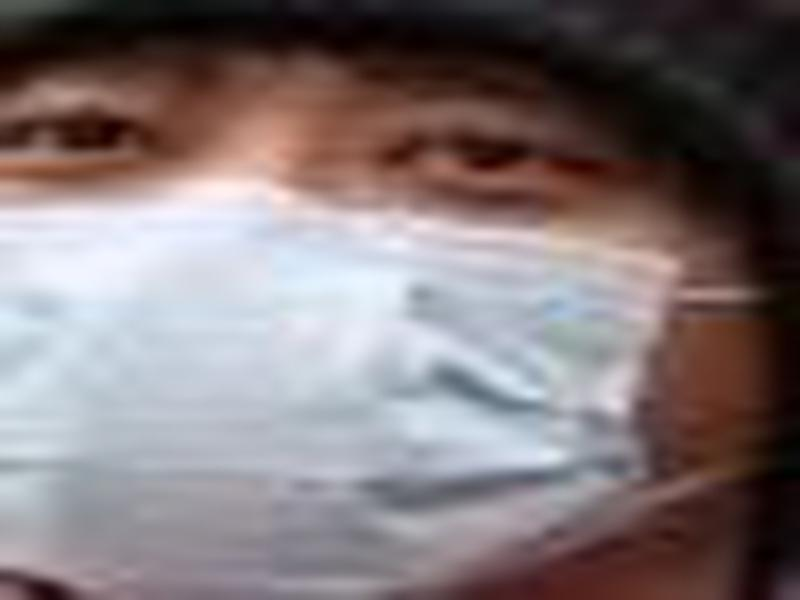with_mask: (1, 55, 796, 600)
